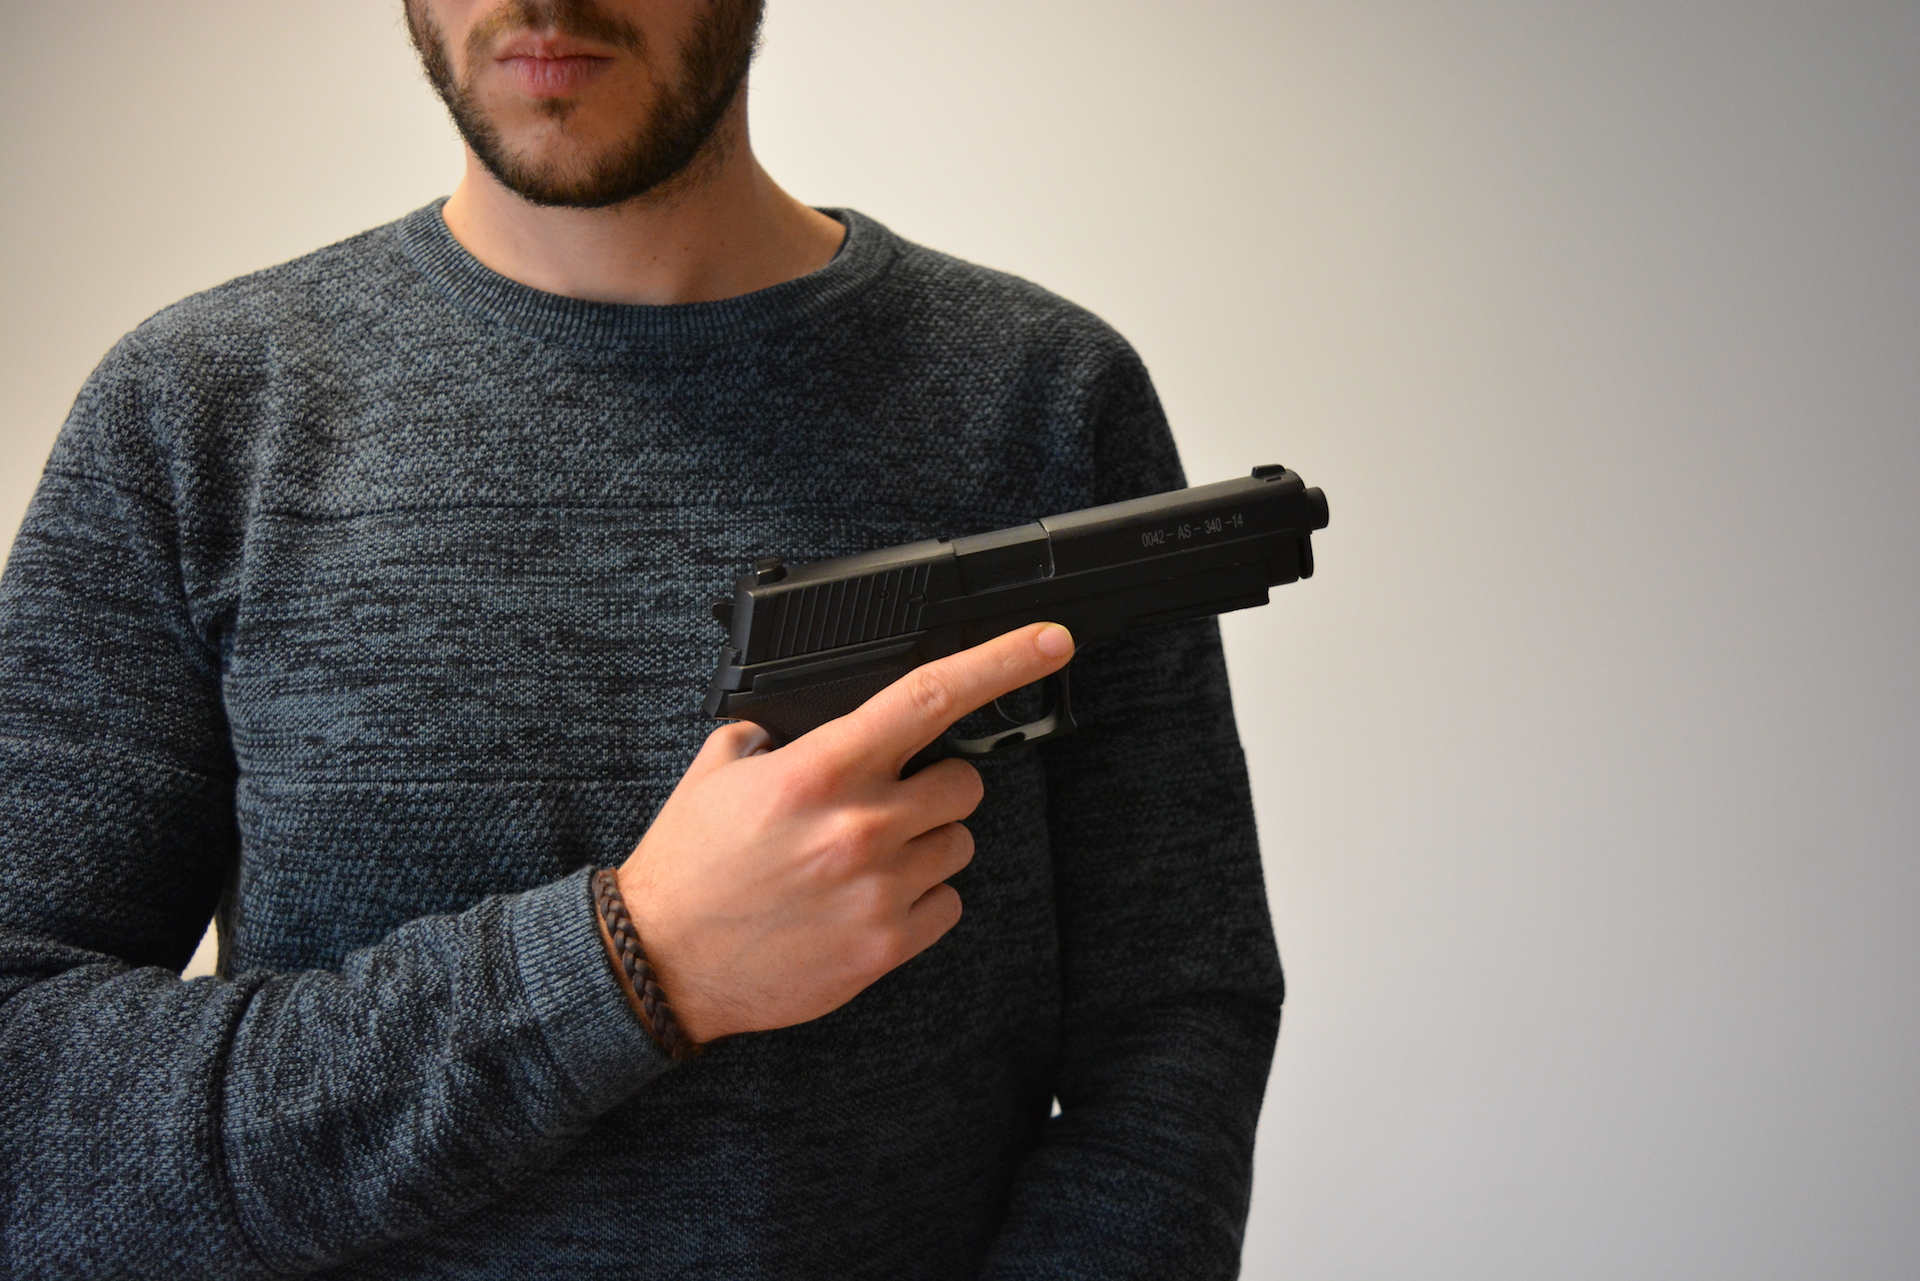pistol: (702, 460, 1334, 776)
